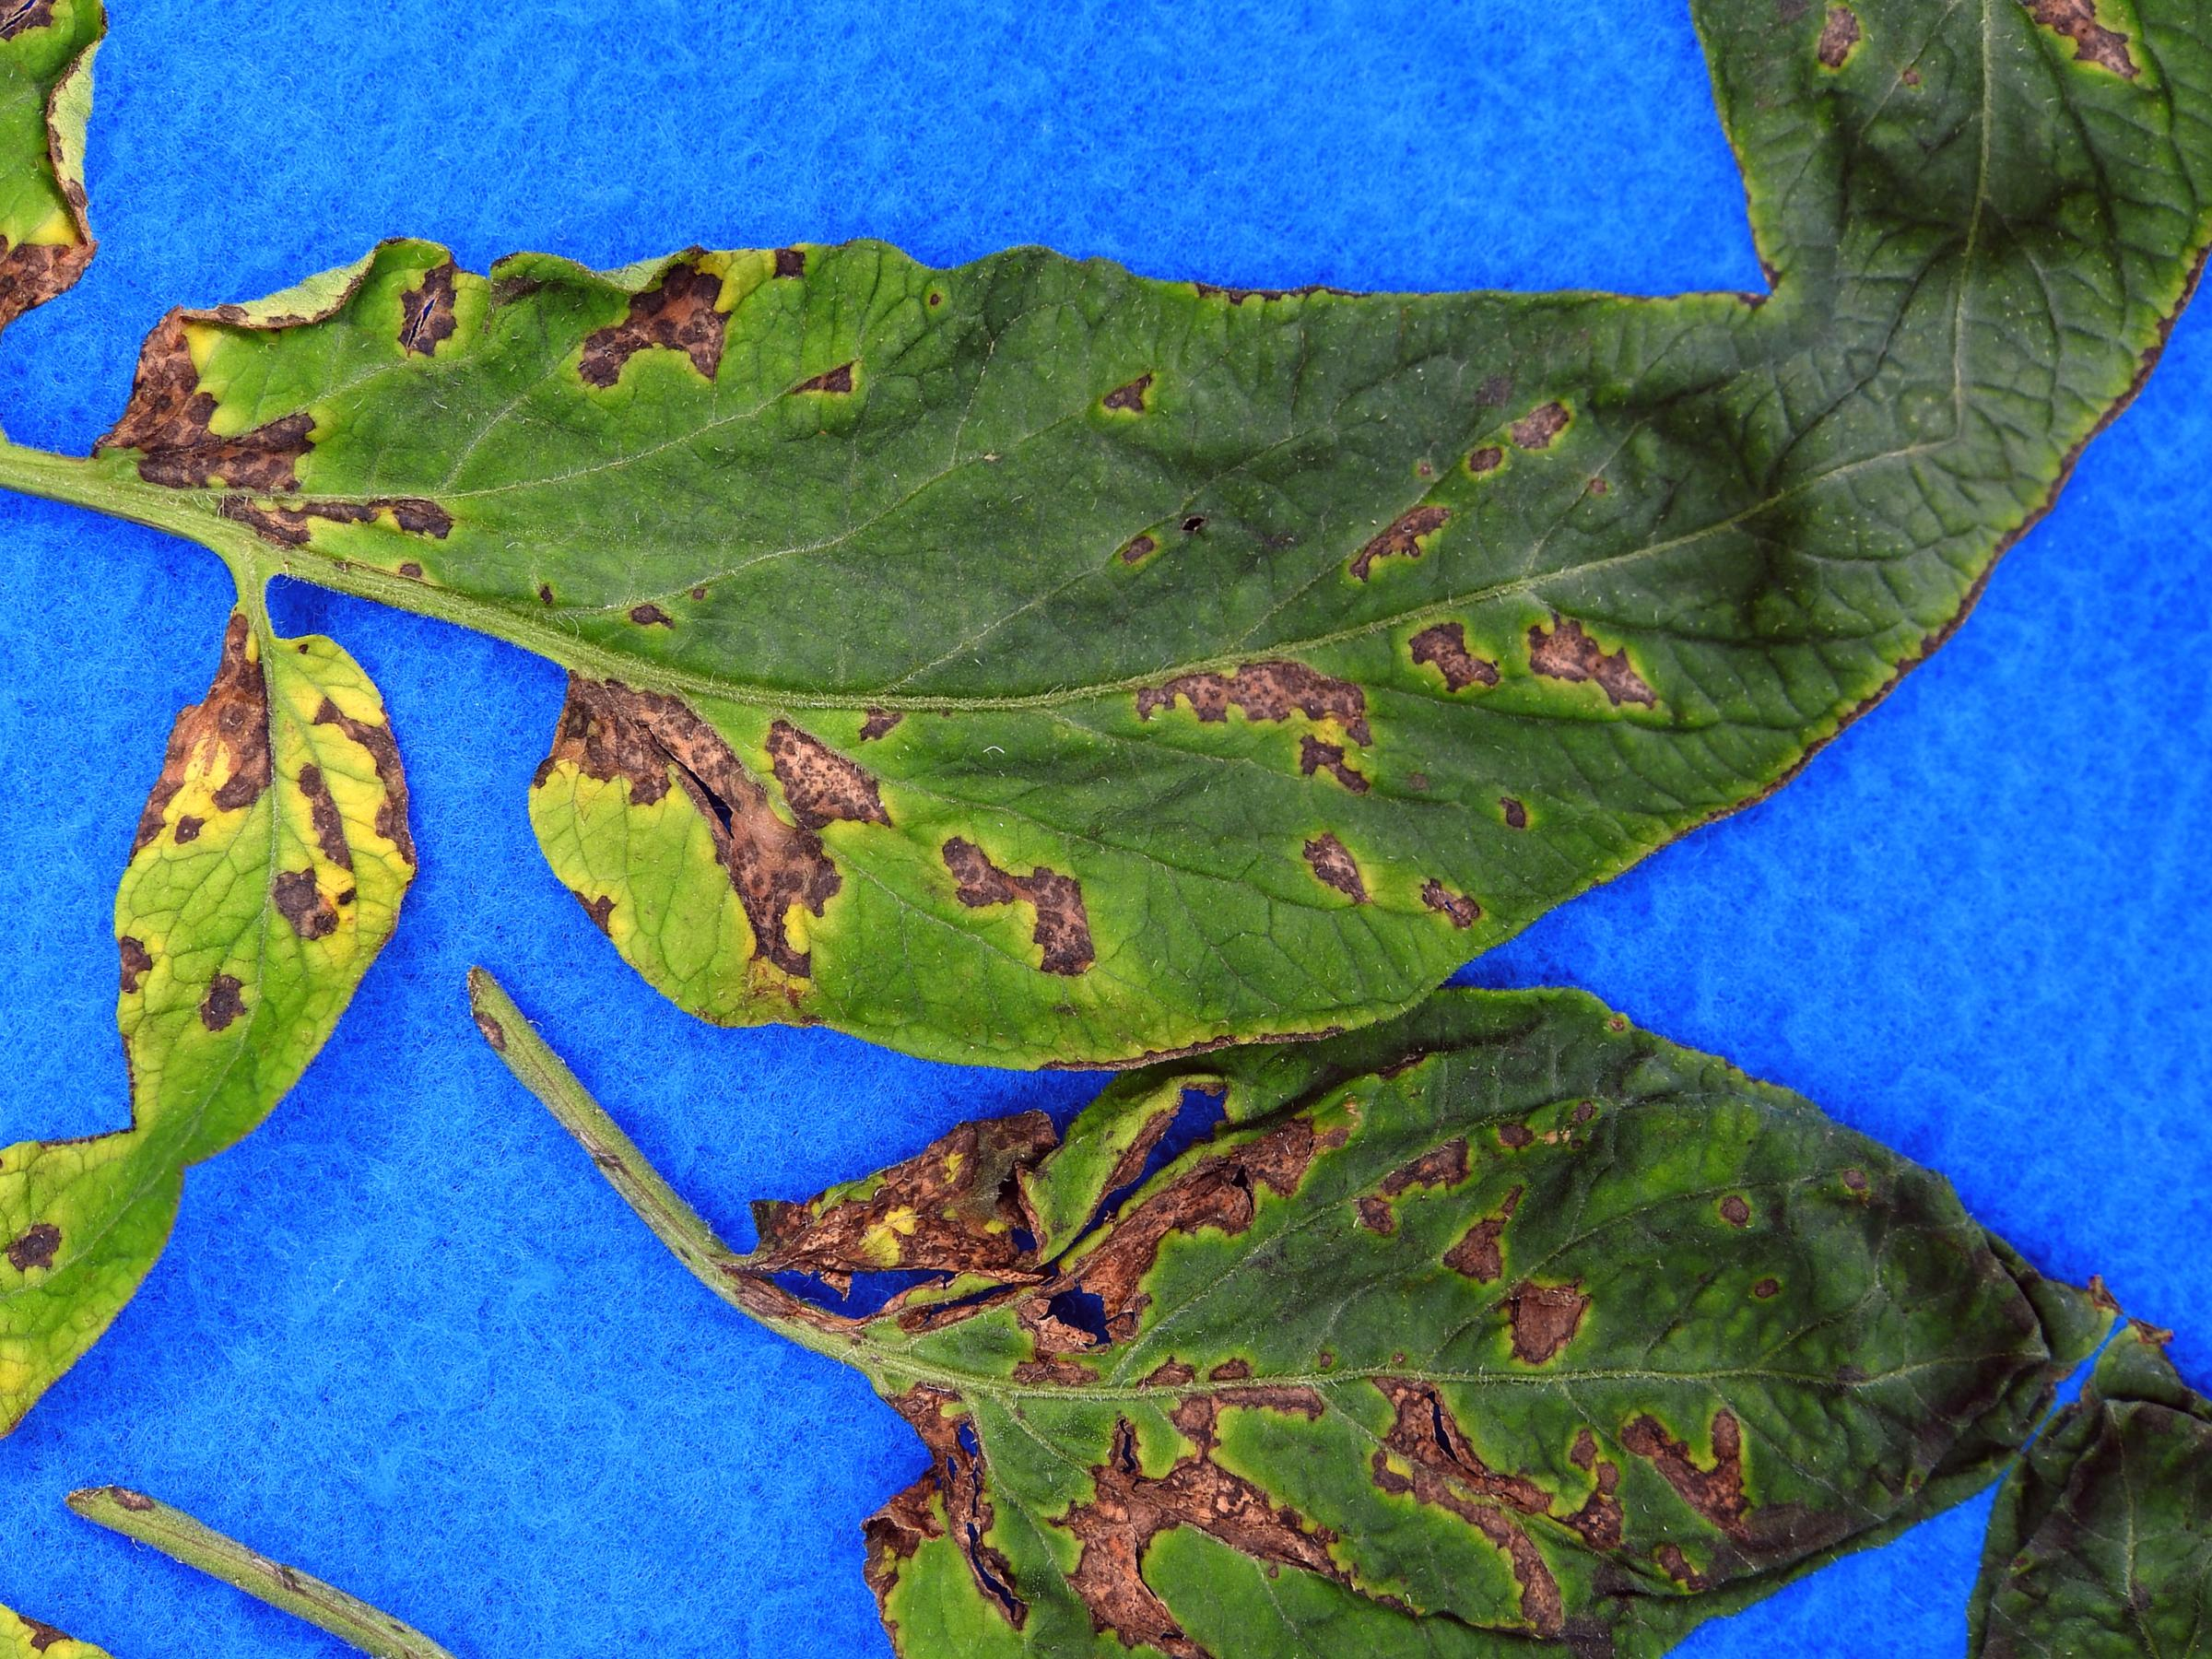Tomato leaf bacterial spot: (0, 0, 2073, 1558), (618, 629, 2141, 1659), (0, 551, 559, 1211)
